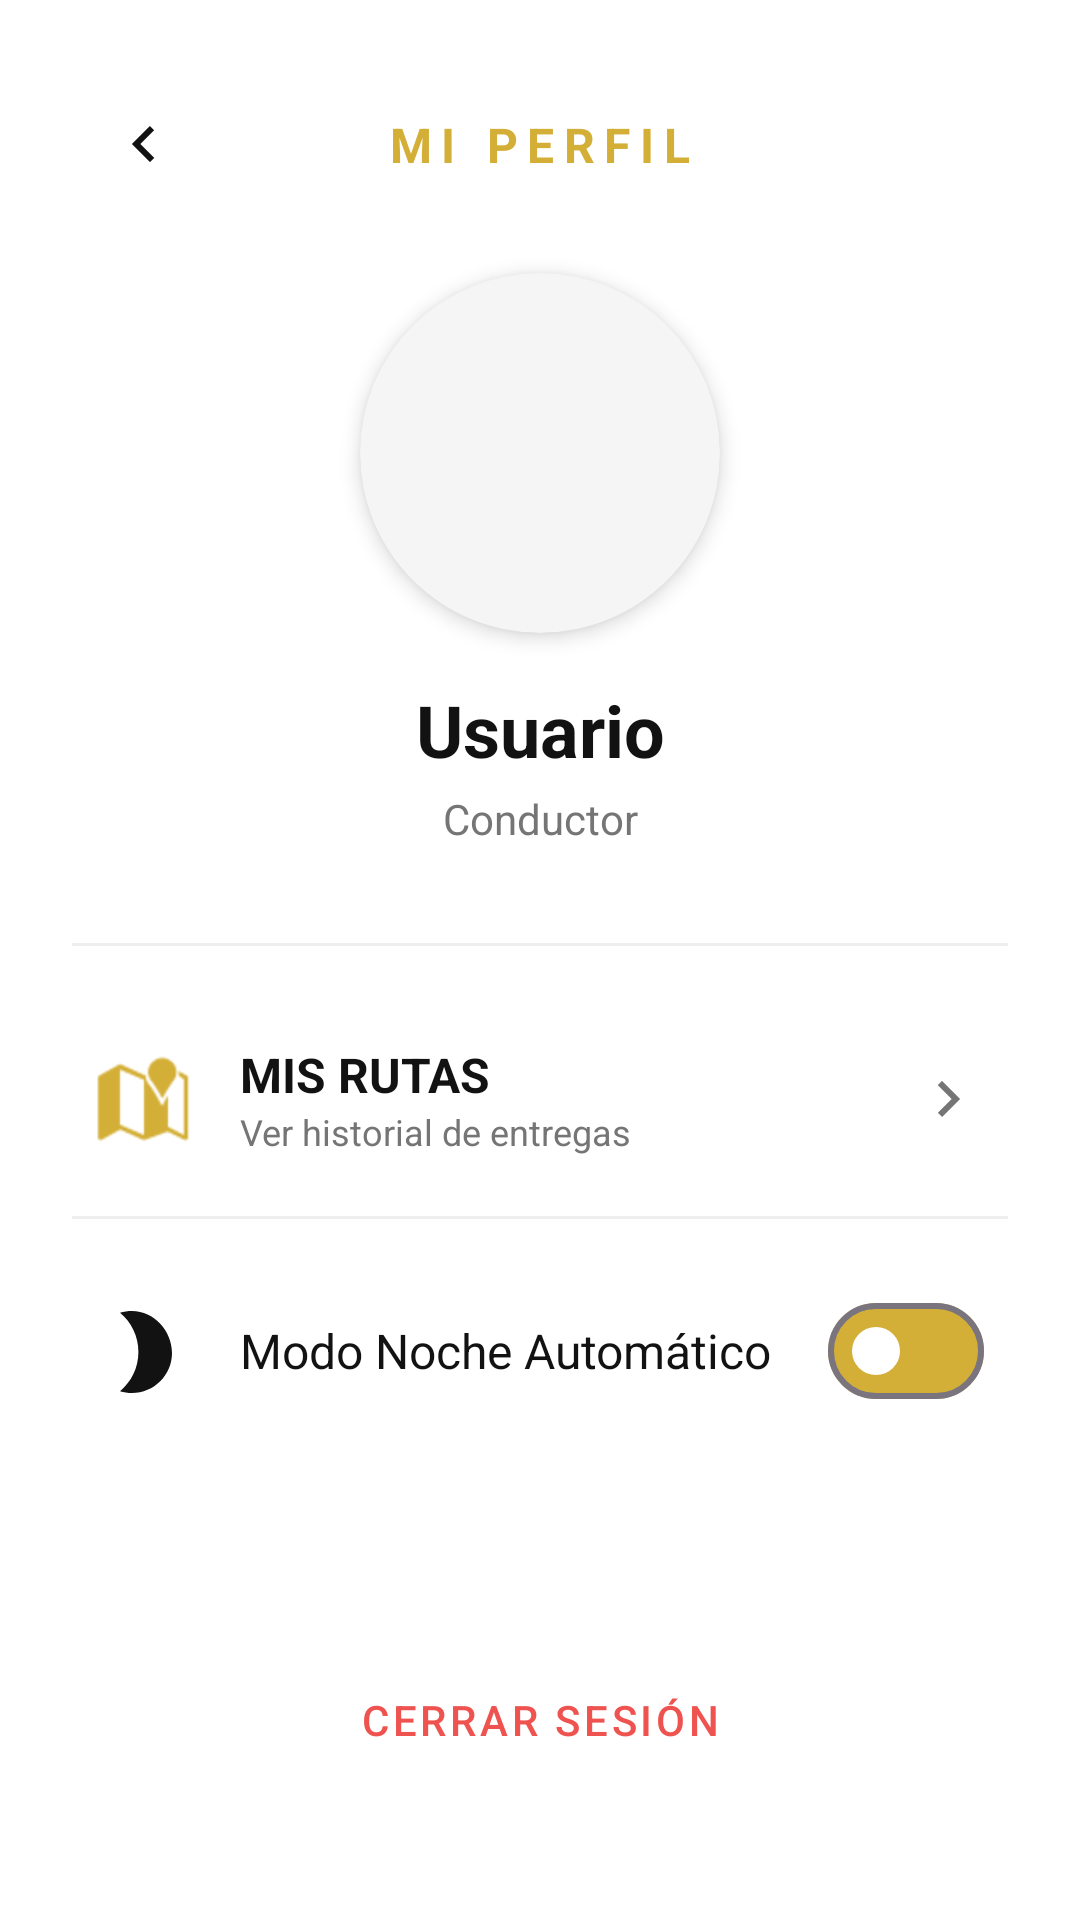

Icon click points for this 1080w x 1920h phone screenshot, format [x,y]:
map: [143,1099]
moon: [146,1352]
